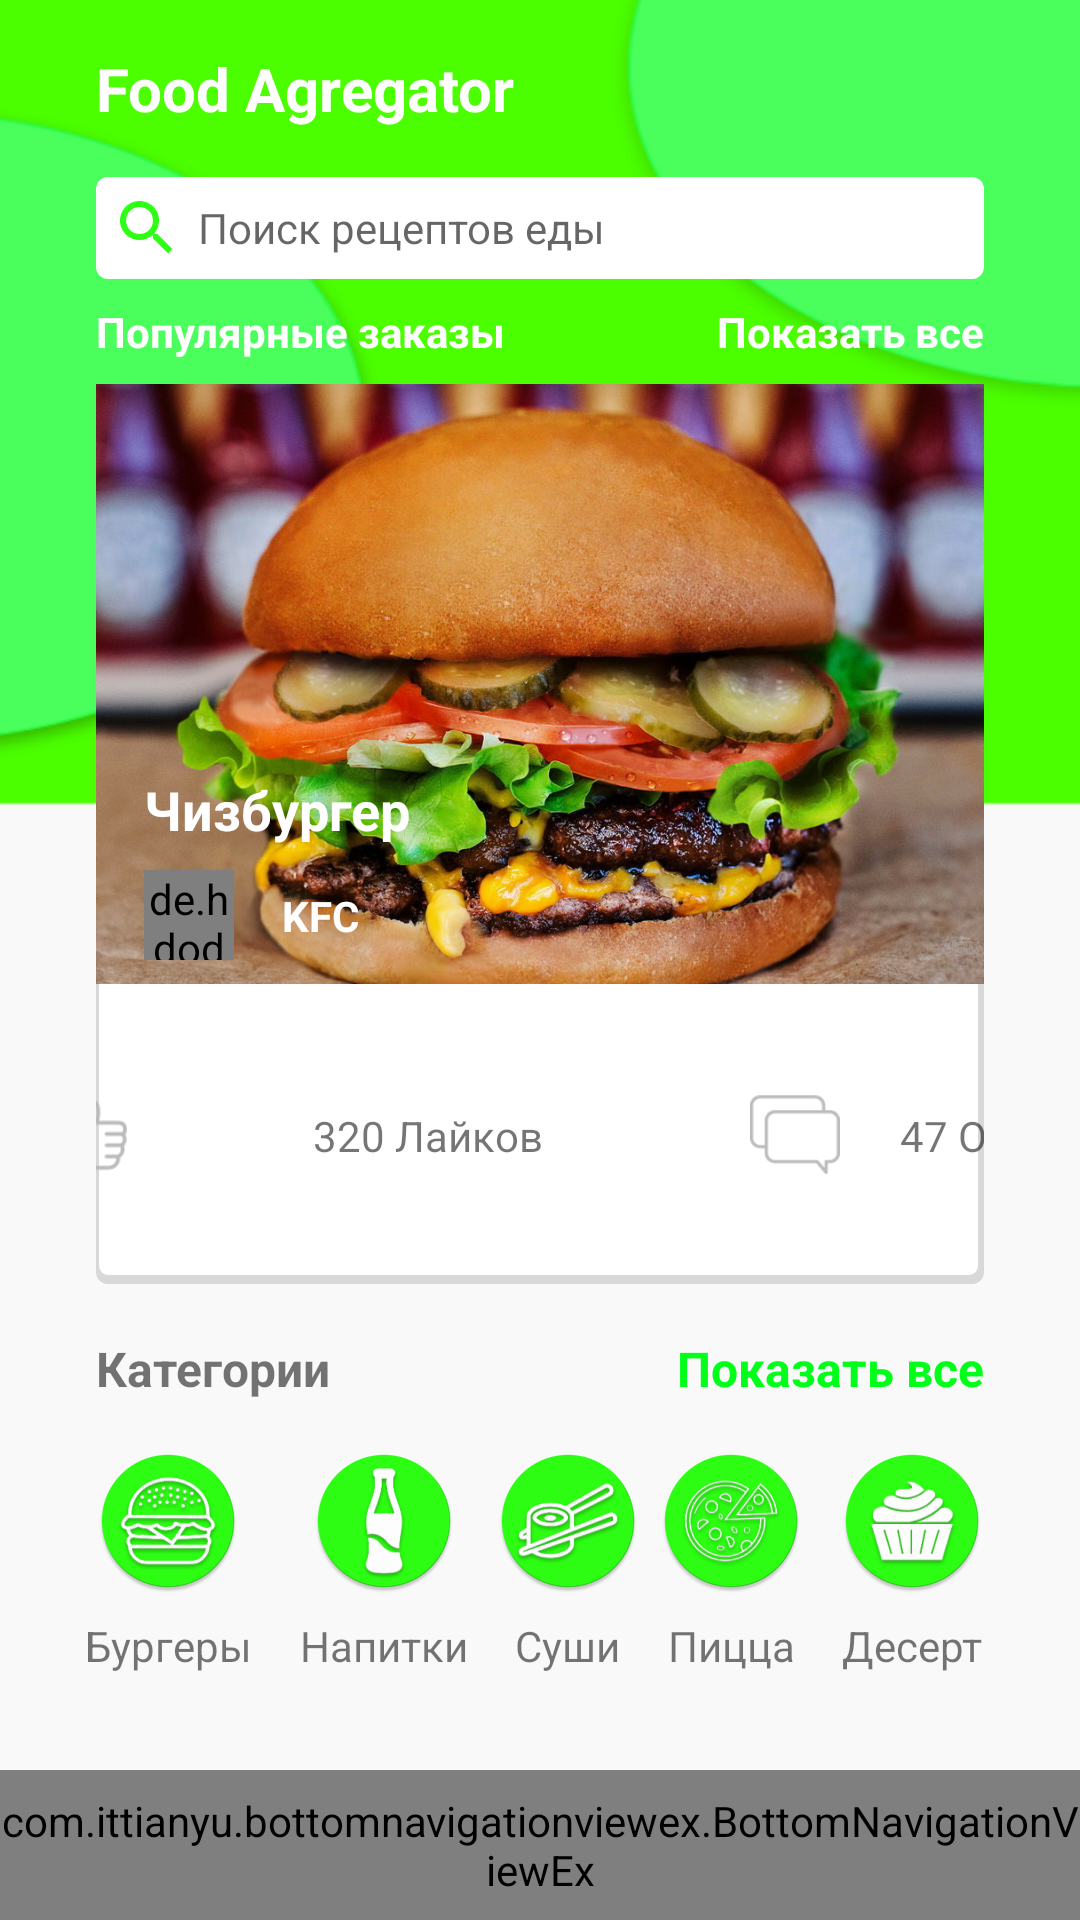

Locate icon controls on the screen. Image size 1080 x 1920, boxes as box(x1, y1, x2, y2).
comment: box(750, 1095, 840, 1174)
